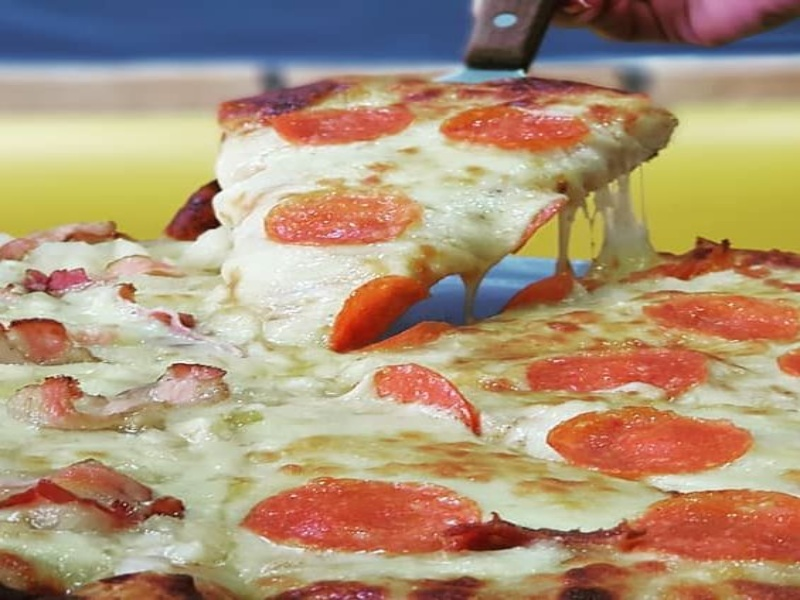pepperonis: (237, 468, 485, 555), (549, 400, 761, 477), (625, 487, 800, 566), (267, 192, 419, 246)
